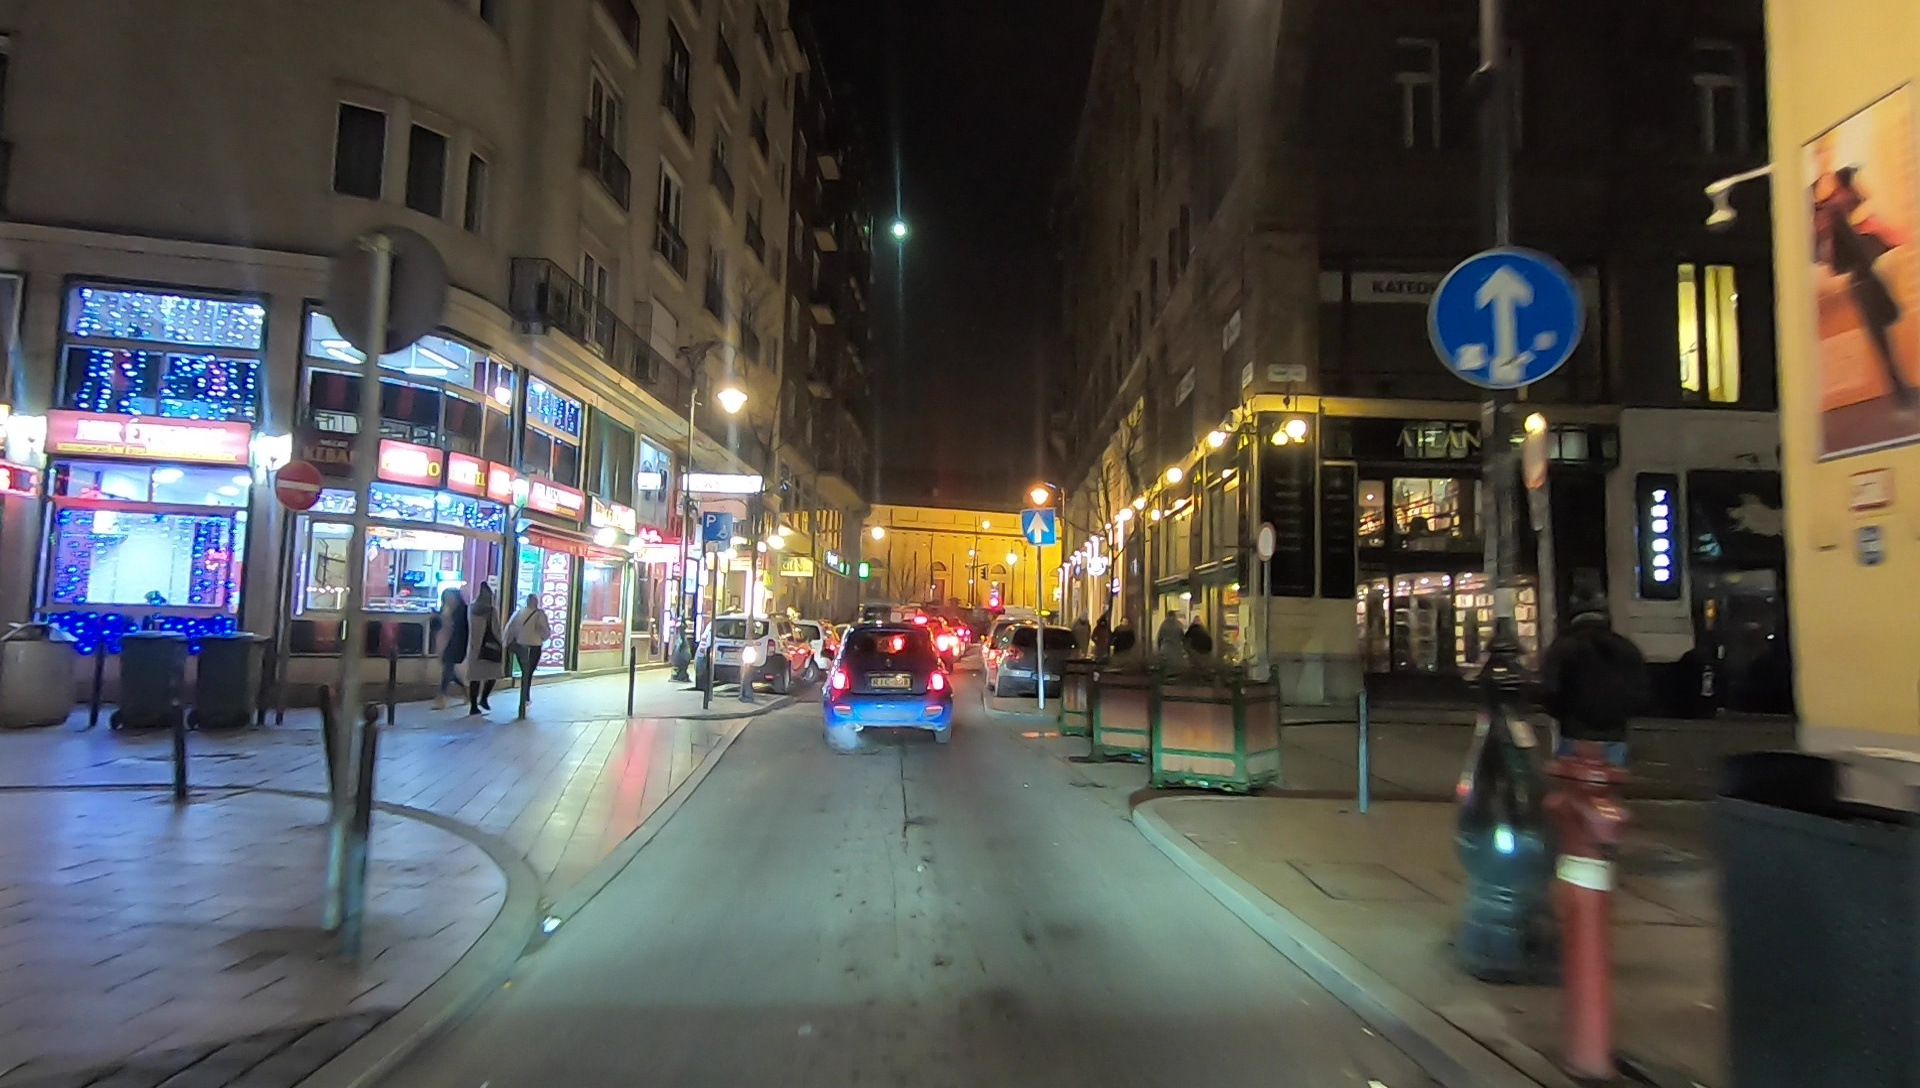person: (1552, 586, 1638, 880), (506, 597, 547, 717), (430, 591, 465, 710), (465, 587, 497, 717), (1182, 615, 1212, 702), (1158, 611, 1184, 684), (1115, 617, 1134, 674), (1095, 615, 1112, 674)
